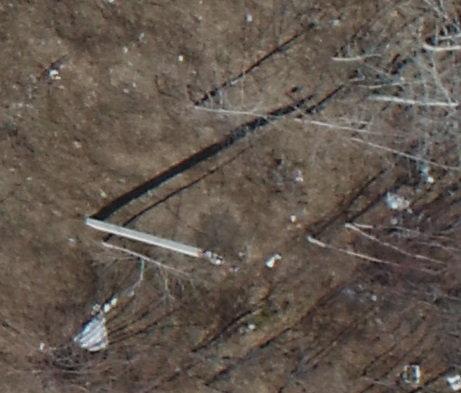opora: (83, 180, 241, 272)
